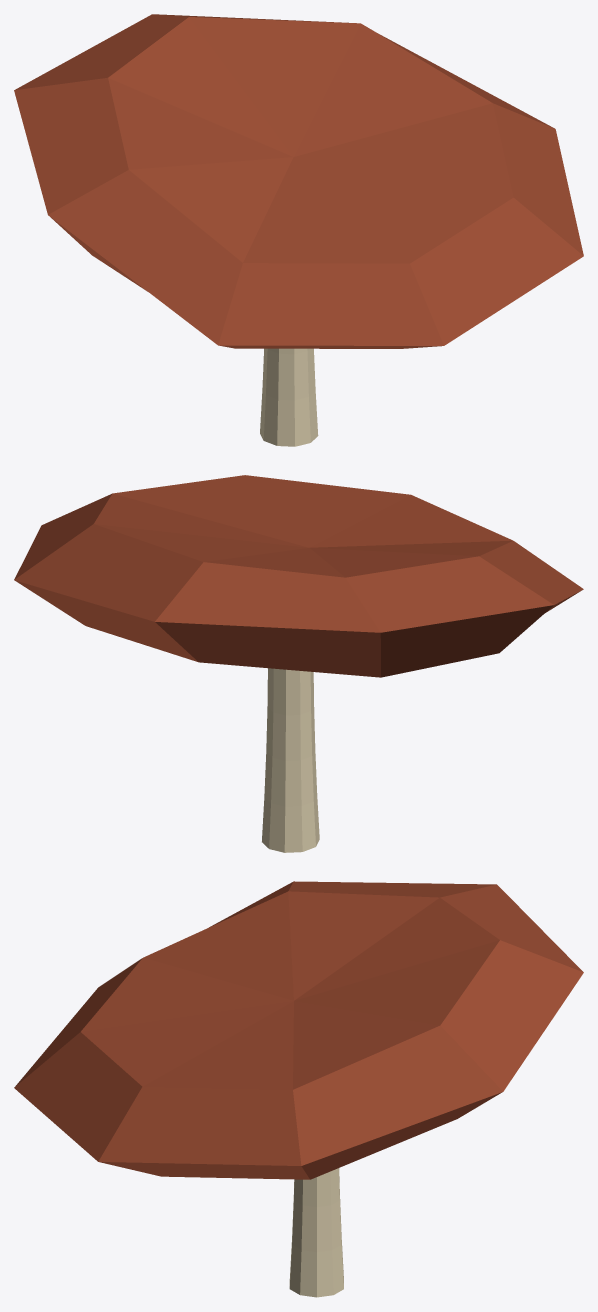
The model's file is mashroom_three.fbx.
3 renders of one model, top to bottom at view 1: azimuth 30°, elevation 25°; view 2: azimuth 150°, elevation 25°; view 3: azimuth 270°, elevation 25°, orthographic. The views are drawn at different scales.
Visible parts, largest first — view 1: mashroom; view 2: mashroom; view 3: mashroom.
Part boxes in pixels (left/top/right/bottom): mashroom: left=14, top=14, right=583, bottom=446; mashroom: left=14, top=475, right=583, bottom=852; mashroom: left=14, top=881, right=583, bottom=1297.
Size of the model in its own units: 198 by 129 by 195.
